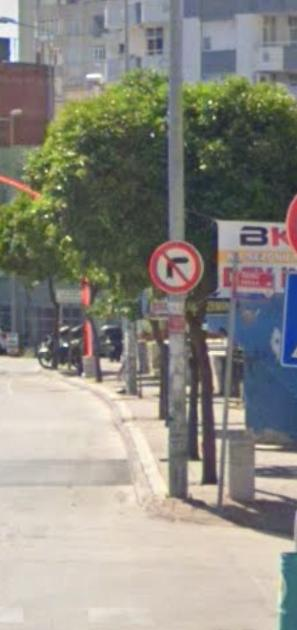rightturnsareforbidden: (151, 242, 202, 293)
